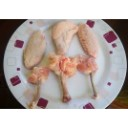chicken_lollipop: (49, 54, 78, 101), (78, 53, 104, 100), (21, 26, 46, 68), (30, 65, 51, 111), (52, 19, 77, 54), (78, 22, 102, 58)
